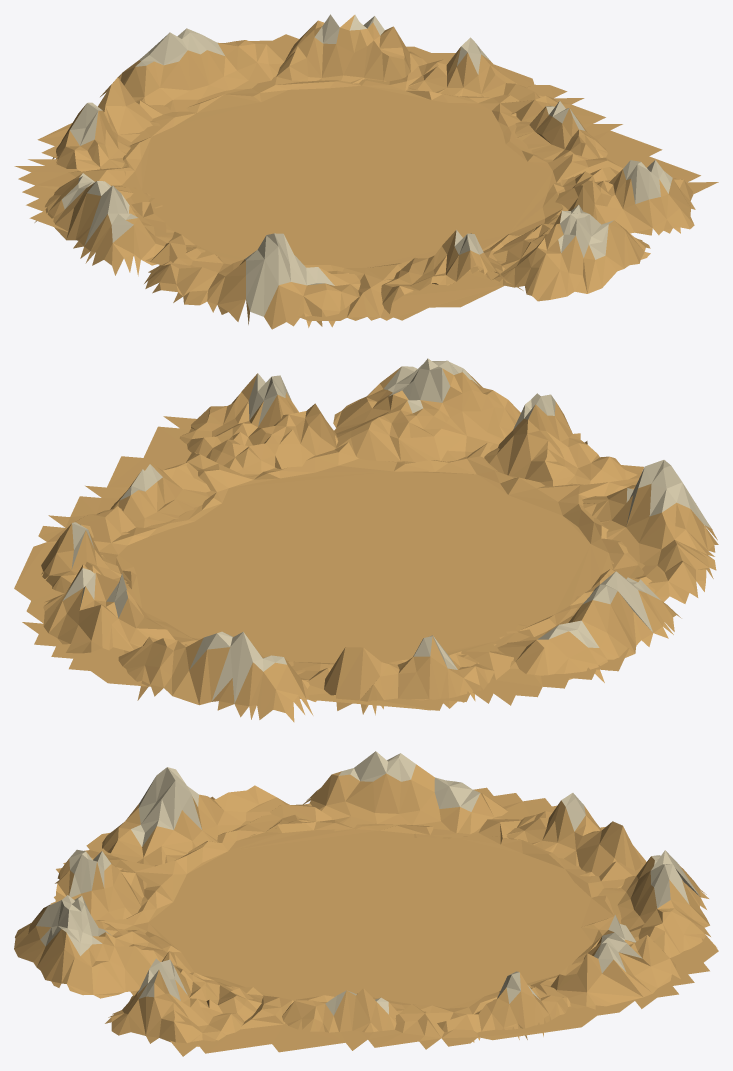
The model's file is D8_Mountains.fbx.
3 views of the same model, one above another, from view 1: azimuth 30°, elevation 25°; view 2: azimuth 150°, elevation 25°; view 3: azimuth 270°, elevation 25° (orthographic). The views are drawn at different scales.
Parts seen in each view (by area): view 1: Plane.016; view 2: Plane.016; view 3: Plane.016.
Part boxes in pixels (x1,y1,x2,y2): Plane.016: [14, 14, 718, 329]; Plane.016: [14, 358, 718, 722]; Plane.016: [14, 751, 718, 1056].
Size of the model in its own units: 410888 by 53379 by 446124.
